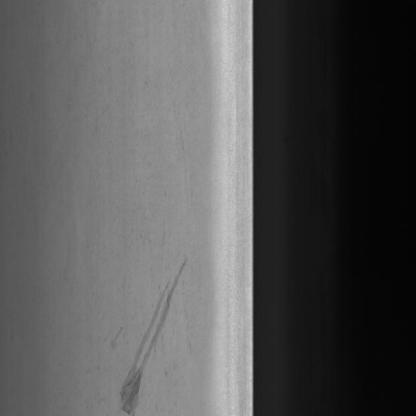water_spot: (97, 244, 190, 415)
